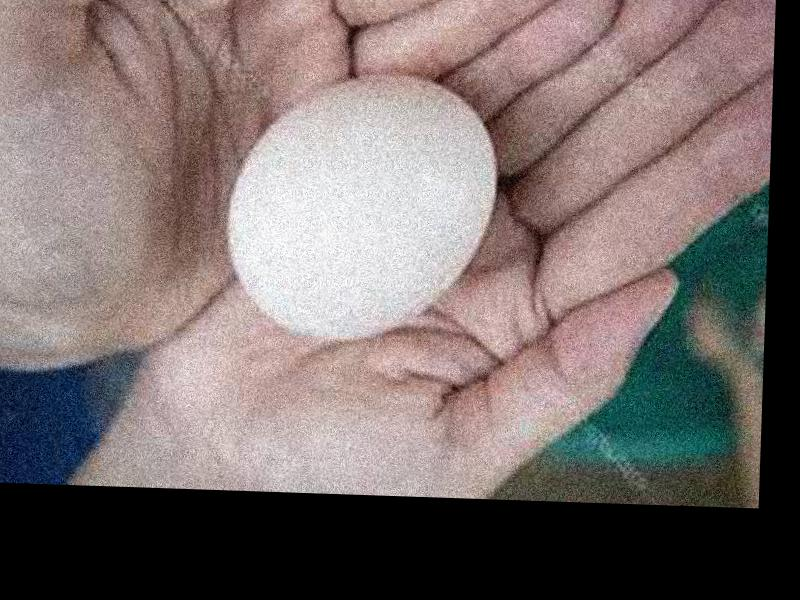Eggs: (226, 76, 499, 338)
